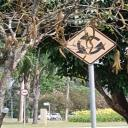Rotatoria: (62, 22, 118, 65)
